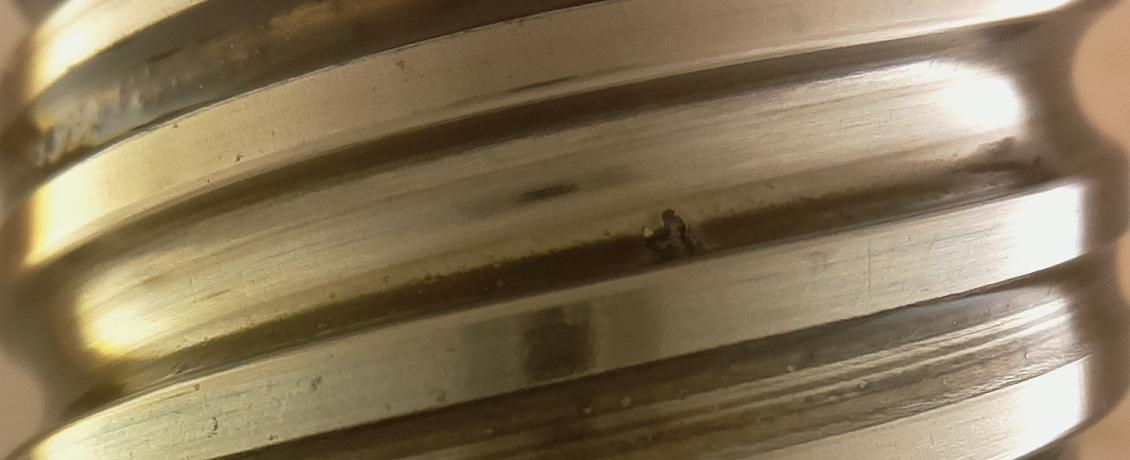pitting: (645, 209, 696, 264)
